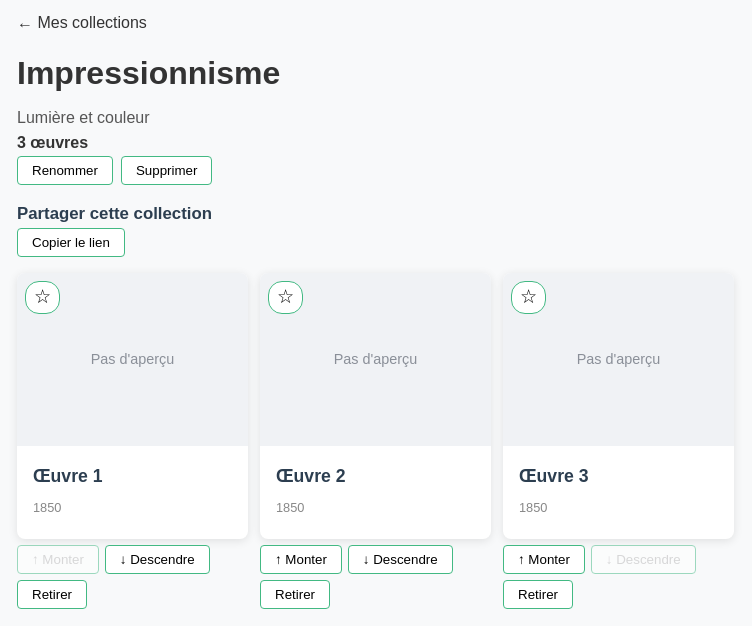
CollectionView › retire une œuvre
Click the button with test id "oeuvre-retirer" below "Œuvre 2": (295, 594) [260,580,330,609]
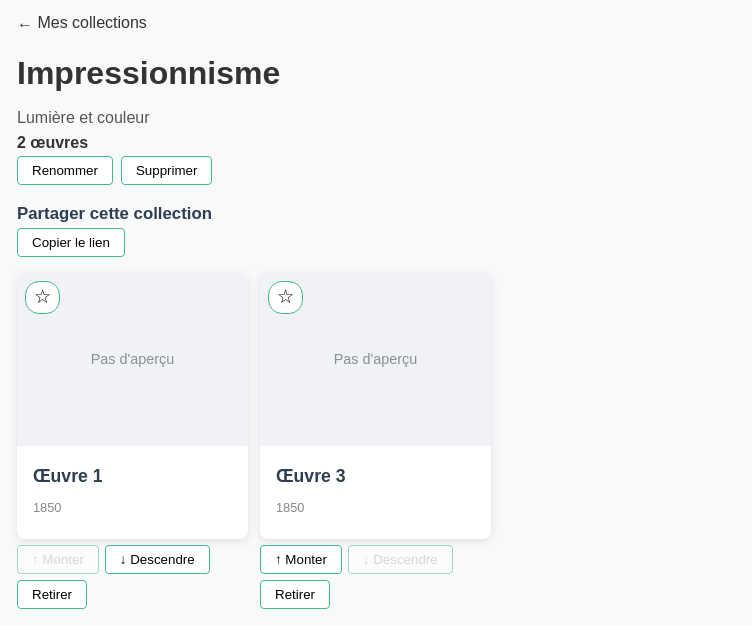
Check: the text with test id "collection-compte" reads "2 œuvres", box [17,134,88,151]
